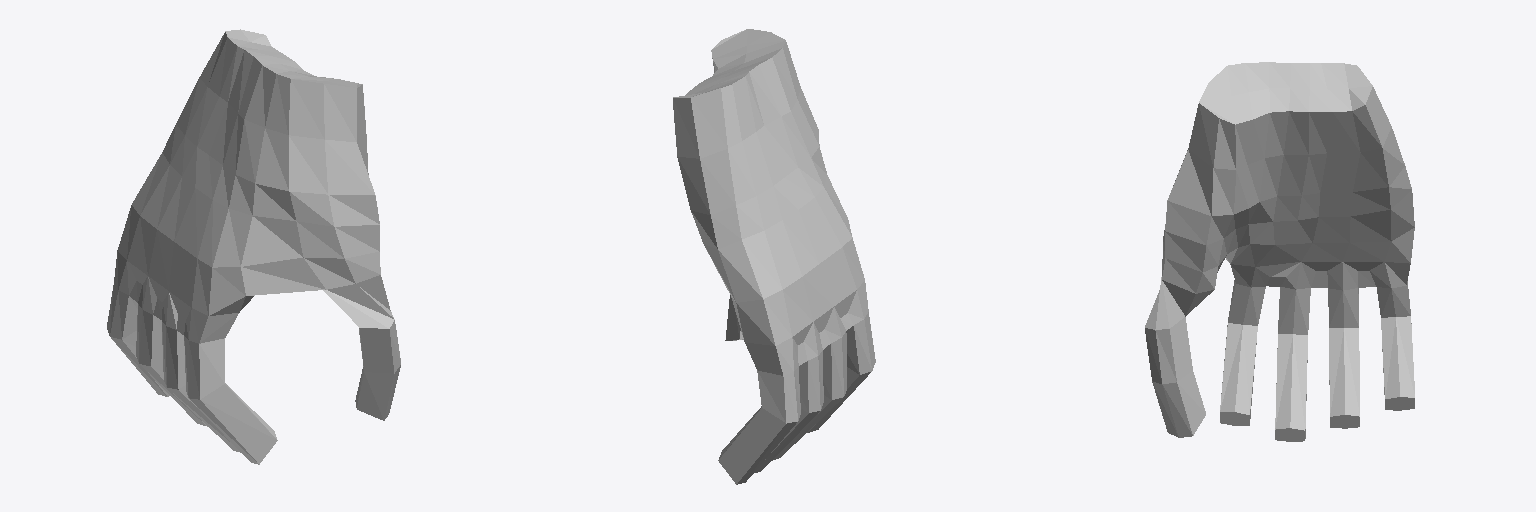
The model's file is mano cerrada.obj.
3 renders of one model, left to right at view 1: azimuth 30°, elevation 25°; view 2: azimuth 150°, elevation 25°; view 3: azimuth 270°, elevation 25°, orthographic.
Parts seen in each view (by area): view 1: polySurface3 pCube8; view 2: polySurface3 pCube8; view 3: polySurface3 pCube8.
Part boxes in pixels (left/top/right/bottom): polySurface3 pCube8: left=107, top=29, right=400, bottom=464; polySurface3 pCube8: left=673, top=29, right=875, bottom=484; polySurface3 pCube8: left=1145, top=62, right=1414, bottom=441.
Size of the model in its own units: 8.29 by 17.47 by 11.03.